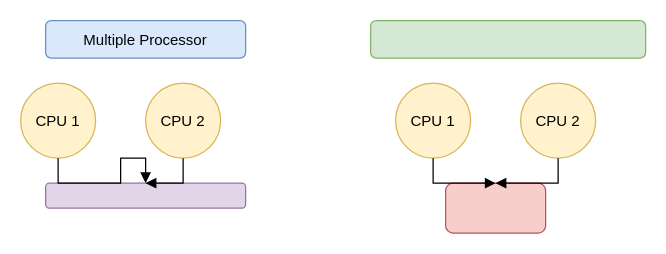
This 666x254 diagram has some shape labels left out. The centre of each missing label's shape, as x and y in pixels:
"Bus" belongs at (x=145, y=195).
"Shared Memory" belongs at (x=495, y=207).
"Symmetric Multiprocessor (SMP)" belongs at (x=507, y=38).
